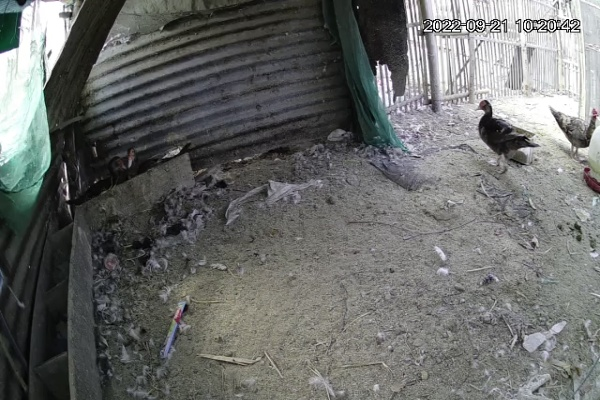Entog: (471, 97, 542, 170), (547, 101, 600, 158)
